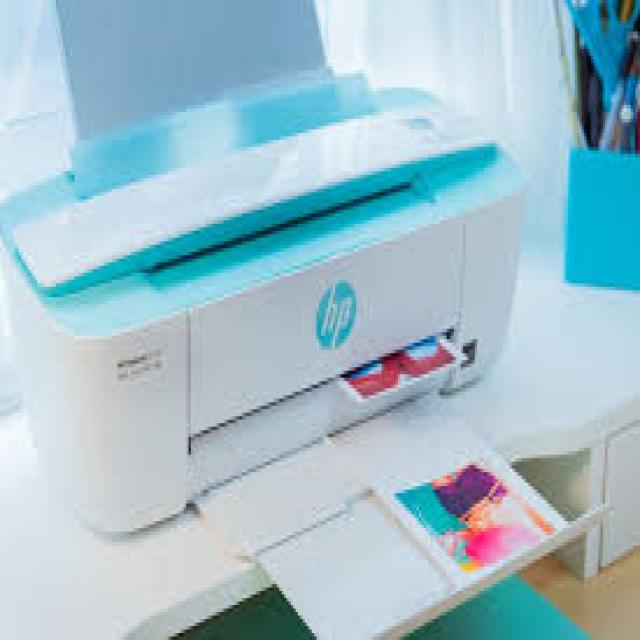printer: (1, 3, 614, 640)
